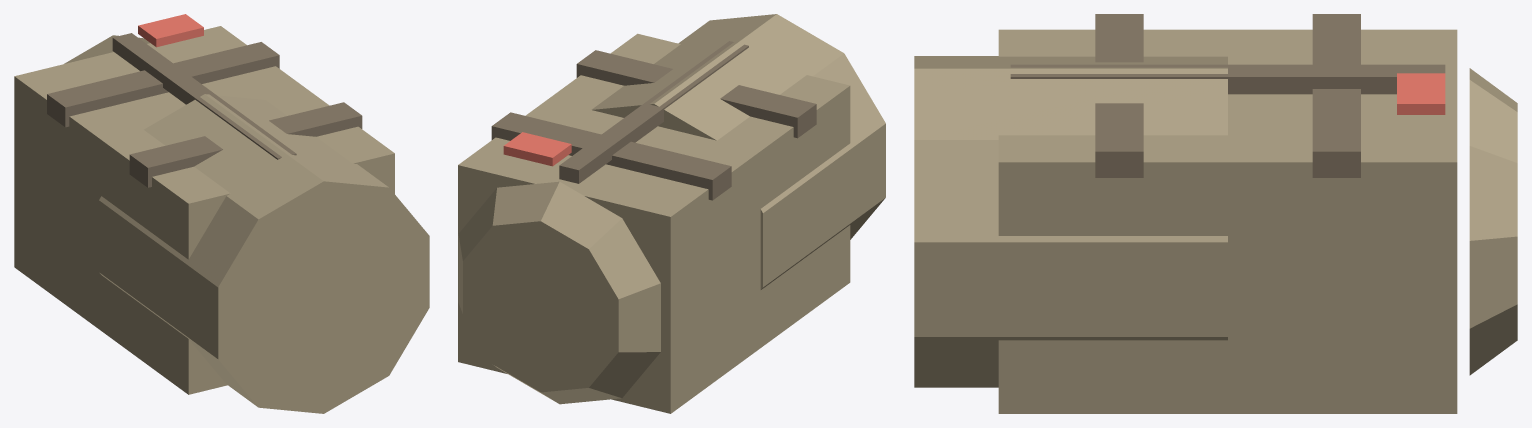
The model's file is DecoyBag.glb.
The picture shows the model from 3 angles, left to right: view 1: azimuth 30°, elevation 25°; view 2: azimuth 150°, elevation 25°; view 3: azimuth 270°, elevation 25°; orthographic projection. The views are drawn at different scales.
Visible parts, largest first — view 1: DecoyBag; view 2: DecoyBag; view 3: DecoyBag.
Boxes of the visible parts, x1,y1,x2,y2 form: DecoyBag: (14, 14, 429, 413); DecoyBag: (458, 14, 885, 413); DecoyBag: (914, 14, 1517, 413).
Size of the model in its own units: 0.27 by 0.285 by 0.5.
